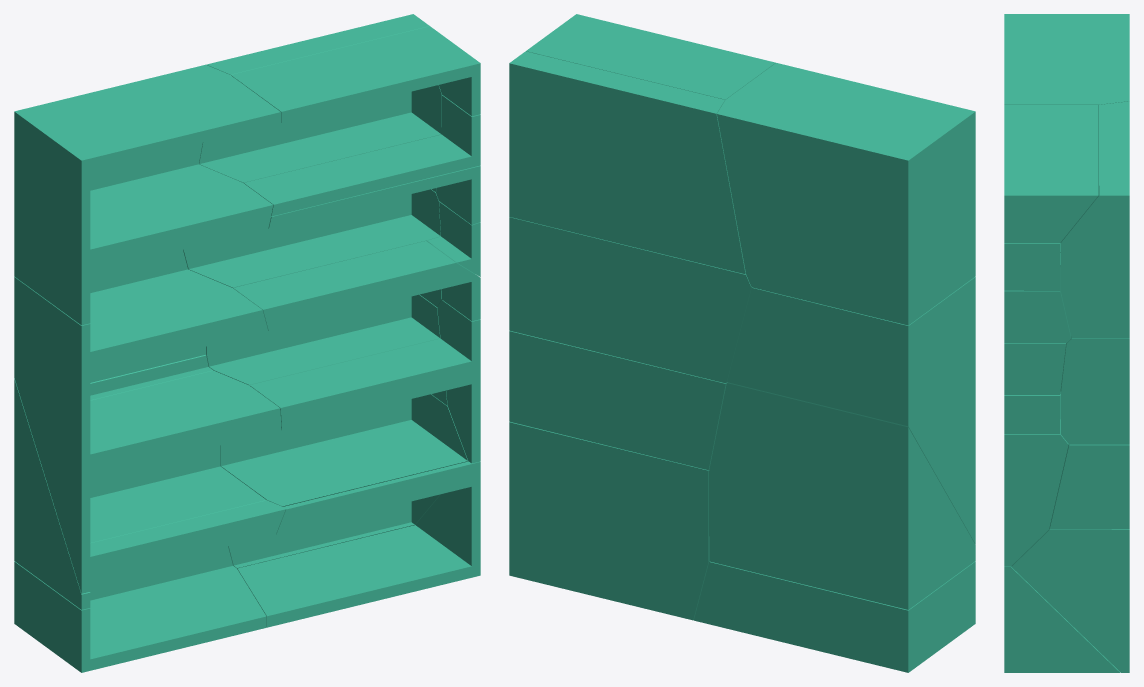
Rendered from Estanteria_Roto.fbx.
3 renders of one model, left to right at view 1: azimuth 30°, elevation 25°; view 2: azimuth 150°, elevation 25°; view 3: azimuth 270°, elevation 25°, orthographic. The views are drawn at different scales.
Visible parts, largest first — view 1: Estanteria_cell.008, Estanteria_cell.005, Estanteria_cell.010, Estanteria_cell.012, Estanteria_cell.014, Estanteria_cell.006, Estanteria_cell.013, Estanteria_cell.004, Estanteria_cell, Estanteria_cell.007, Estanteria_cell.003, Estanteria_cell.001 (+3 smaller); view 2: Estanteria_cell.005, Estanteria_cell.006, Estanteria_cell.013, Estanteria_cell.012, Estanteria_cell.008, Estanteria_cell.007, Estanteria_cell.001, Estanteria_cell.014, Estanteria_cell; view 3: Estanteria_cell, Estanteria_cell.013, Estanteria_cell.005, Estanteria_cell.012, Estanteria_cell.007, Estanteria_cell.010, Estanteria_cell.004, Estanteria_cell.001, Estanteria_cell.002, Estanteria_cell.011, Estanteria_cell.009, Estanteria_cell.003.
Boxes of the visible parts, x1=… form: Estanteria_cell.008: x1=14, y1=250, x2=285, y2=593; Estanteria_cell.005: x1=14, y1=64, x2=280, y2=325; Estanteria_cell.010: x1=237, y1=461, x2=480, y2=627; Estanteria_cell.012: x1=220, y1=394, x2=468, y2=568; Estanteria_cell.014: x1=14, y1=546, x2=266, y2=672; Estanteria_cell.006: x1=14, y1=355, x2=266, y2=609; Estanteria_cell.013: x1=199, y1=14, x2=441, y2=192; Estanteria_cell.004: x1=249, y1=300, x2=480, y2=463; Estanteria_cell: x1=231, y1=26, x2=480, y2=123; Estanteria_cell.007: x1=183, y1=189, x2=441, y2=306; Estanteria_cell.003: x1=233, y1=241, x2=480, y2=330; Estanteria_cell.001: x1=206, y1=294, x2=447, y2=405; Estanteria_cell.005: x1=717, y1=63, x2=975, y2=325; Estanteria_cell.006: x1=709, y1=383, x2=975, y2=609; Estanteria_cell.013: x1=509, y1=51, x2=745, y2=274; Estanteria_cell.012: x1=509, y1=422, x2=709, y2=620; Estanteria_cell.008: x1=727, y1=276, x2=975, y2=544; Estanteria_cell.007: x1=509, y1=217, x2=751, y2=383; Estanteria_cell.001: x1=509, y1=331, x2=727, y2=470; Estanteria_cell.014: x1=694, y1=561, x2=975, y2=672; Estanteria_cell: x1=526, y1=14, x2=775, y2=99; Estanteria_cell: x1=1004, y1=105, x2=1098, y2=242; Estanteria_cell.013: x1=1060, y1=101, x2=1129, y2=338; Estanteria_cell.005: x1=1004, y1=14, x2=1129, y2=104; Estanteria_cell.012: x1=1011, y1=528, x2=1129, y2=672; Estanteria_cell.007: x1=1060, y1=336, x2=1129, y2=444; Estanteria_cell.010: x1=1004, y1=566, x2=1120, y2=672; Estanteria_cell.004: x1=1004, y1=392, x2=1068, y2=566; Estanteria_cell.001: x1=1049, y1=444, x2=1129, y2=529; Estanteria_cell.002: x1=1004, y1=243, x2=1070, y2=343; Estanteria_cell.011: x1=1004, y1=343, x2=1065, y2=394; Estanteria_cell.009: x1=1004, y1=243, x2=1060, y2=290; Estanteria_cell.003: x1=1004, y1=394, x2=1060, y2=433.
Bounding box in the file's own units: 149 × 183 × 43.51.
